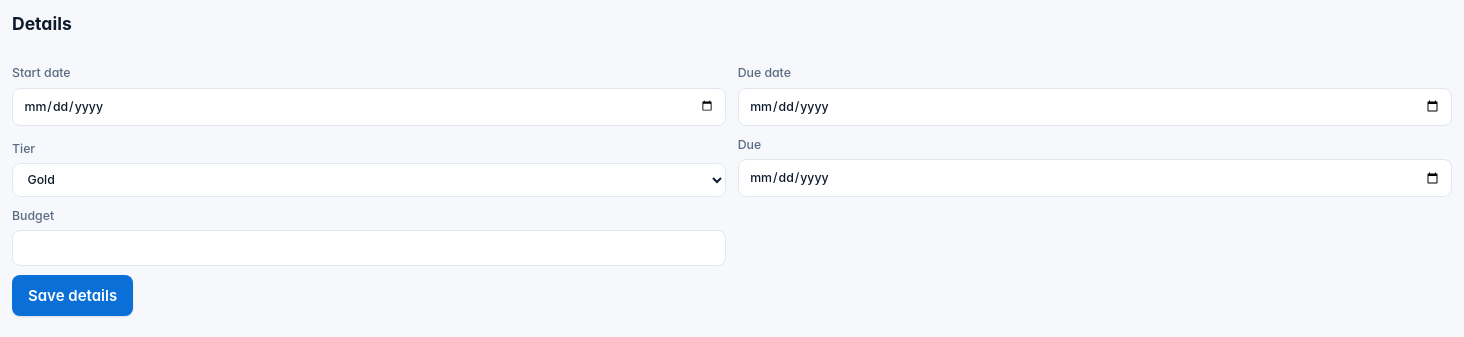
custom fields › fills in an issue's details by field type
The image size is (1464, 337).
Select "Silver" in the dropdown labelled "Tier" at [369, 180], box [12,163,726,197]
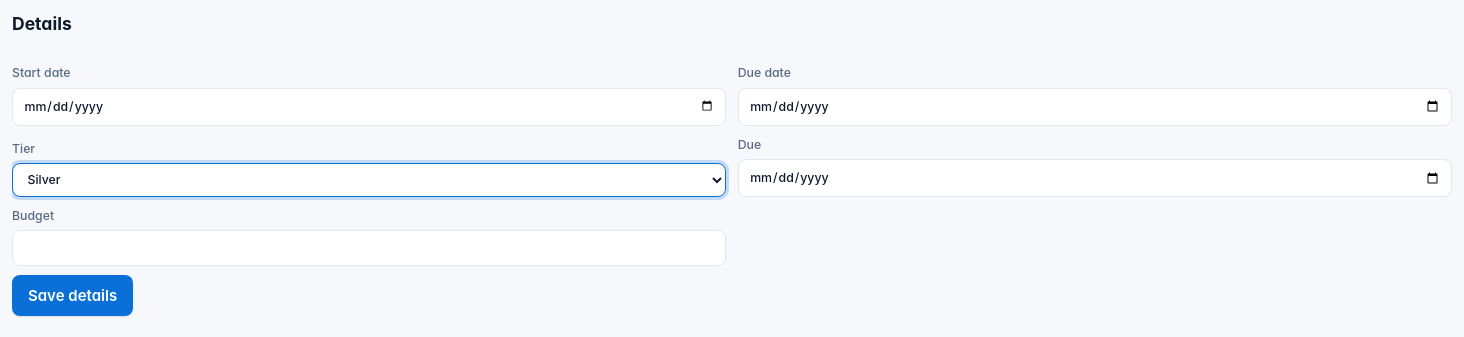
Type "2026-12-01" into the date field labelled "Due" at [1095, 178], box [738,159,1452,197]
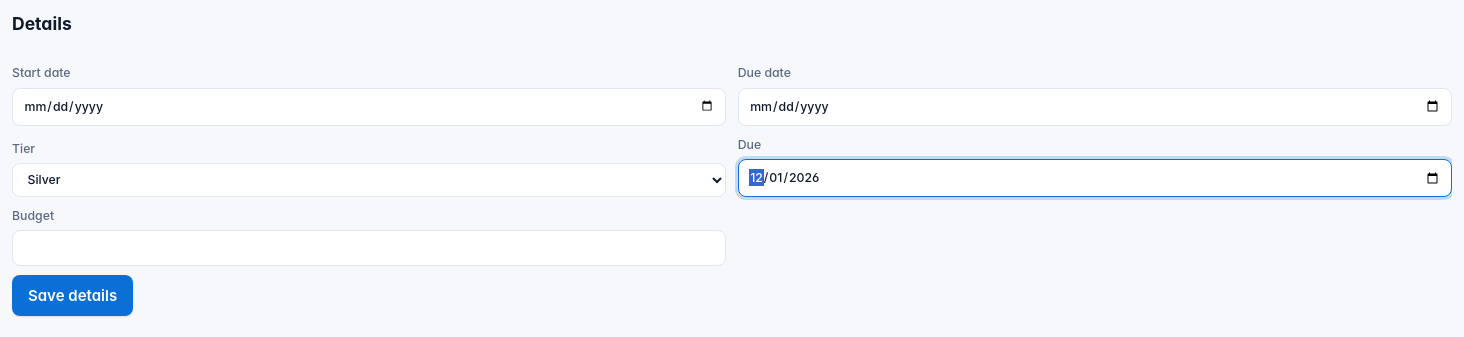
Click the button "Save details" at [73, 295], box [12,275,133,316]
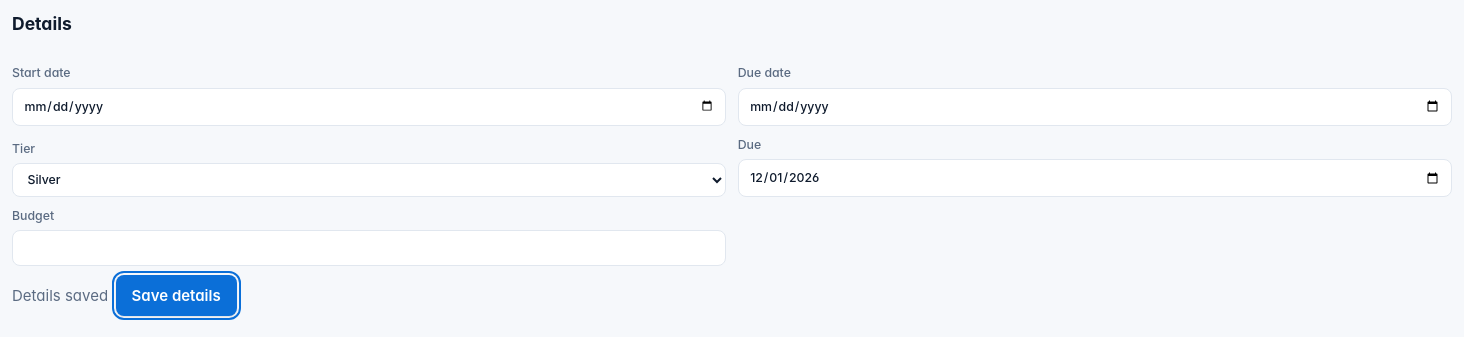
Now the message reads "Details saved", box [12,286,108,305]
